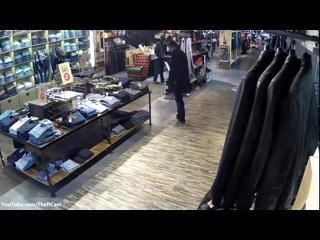Normal: (164, 40, 190, 125)
